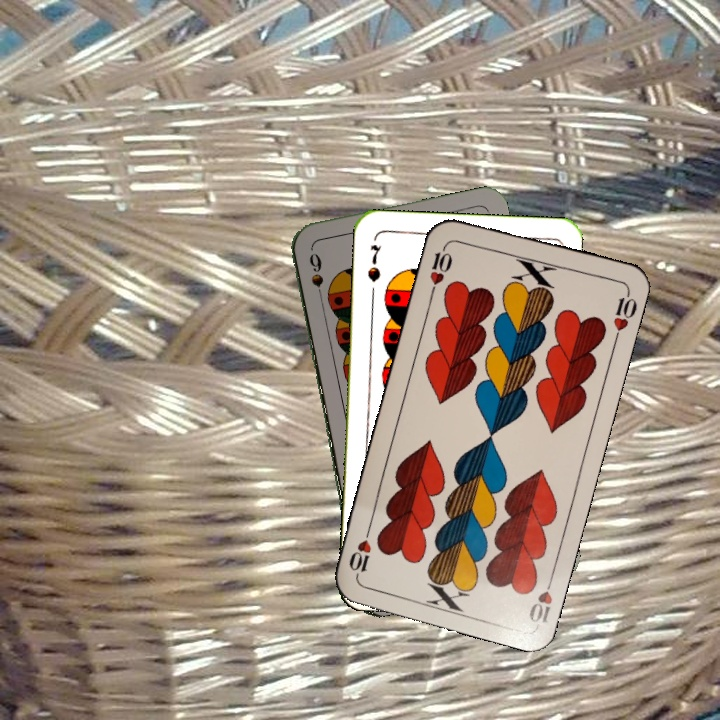H10: (525, 569, 557, 626), (425, 239, 455, 297)
S7: (363, 241, 384, 285)
S9: (305, 249, 326, 306)
